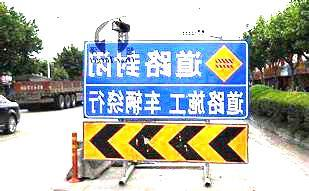sign: (83, 40, 246, 163)
